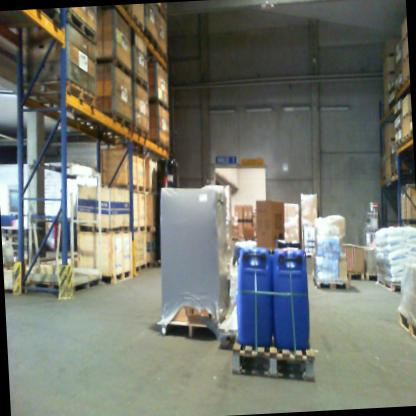pallet: (229, 332, 316, 386), (76, 220, 134, 284), (20, 78, 97, 112), (28, 264, 104, 296), (157, 315, 218, 342), (59, 7, 97, 46), (95, 106, 134, 133), (94, 54, 131, 79), (397, 309, 416, 346), (315, 276, 349, 293), (377, 273, 401, 294), (37, 7, 61, 28), (102, 184, 145, 195), (394, 110, 412, 134), (130, 73, 149, 94), (148, 95, 170, 113), (143, 26, 158, 49), (133, 124, 151, 142), (150, 138, 170, 154), (129, 13, 144, 34), (157, 3, 167, 23), (347, 271, 365, 282), (156, 47, 168, 63), (393, 81, 404, 96), (135, 262, 147, 274), (364, 272, 378, 281), (402, 132, 413, 143), (146, 224, 157, 234), (133, 225, 146, 233), (145, 185, 157, 193), (400, 31, 408, 43), (401, 52, 409, 63), (394, 138, 403, 147), (402, 74, 410, 83), (147, 261, 154, 268), (391, 168, 397, 176)
